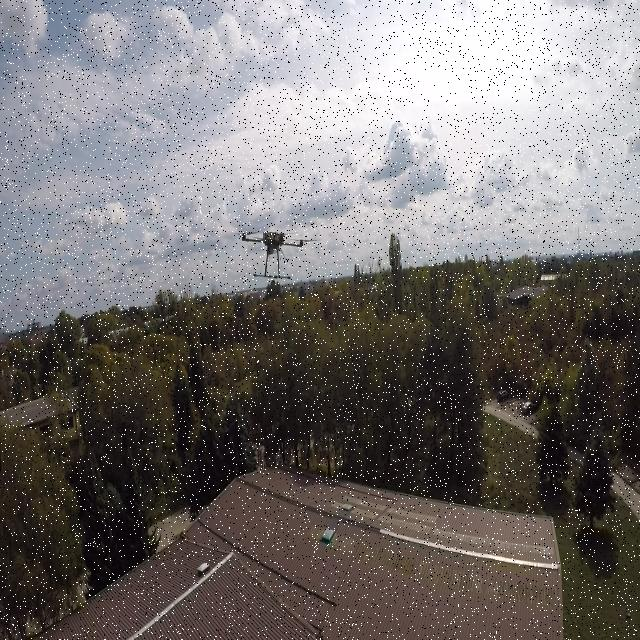UAV: (227, 218, 323, 282)
